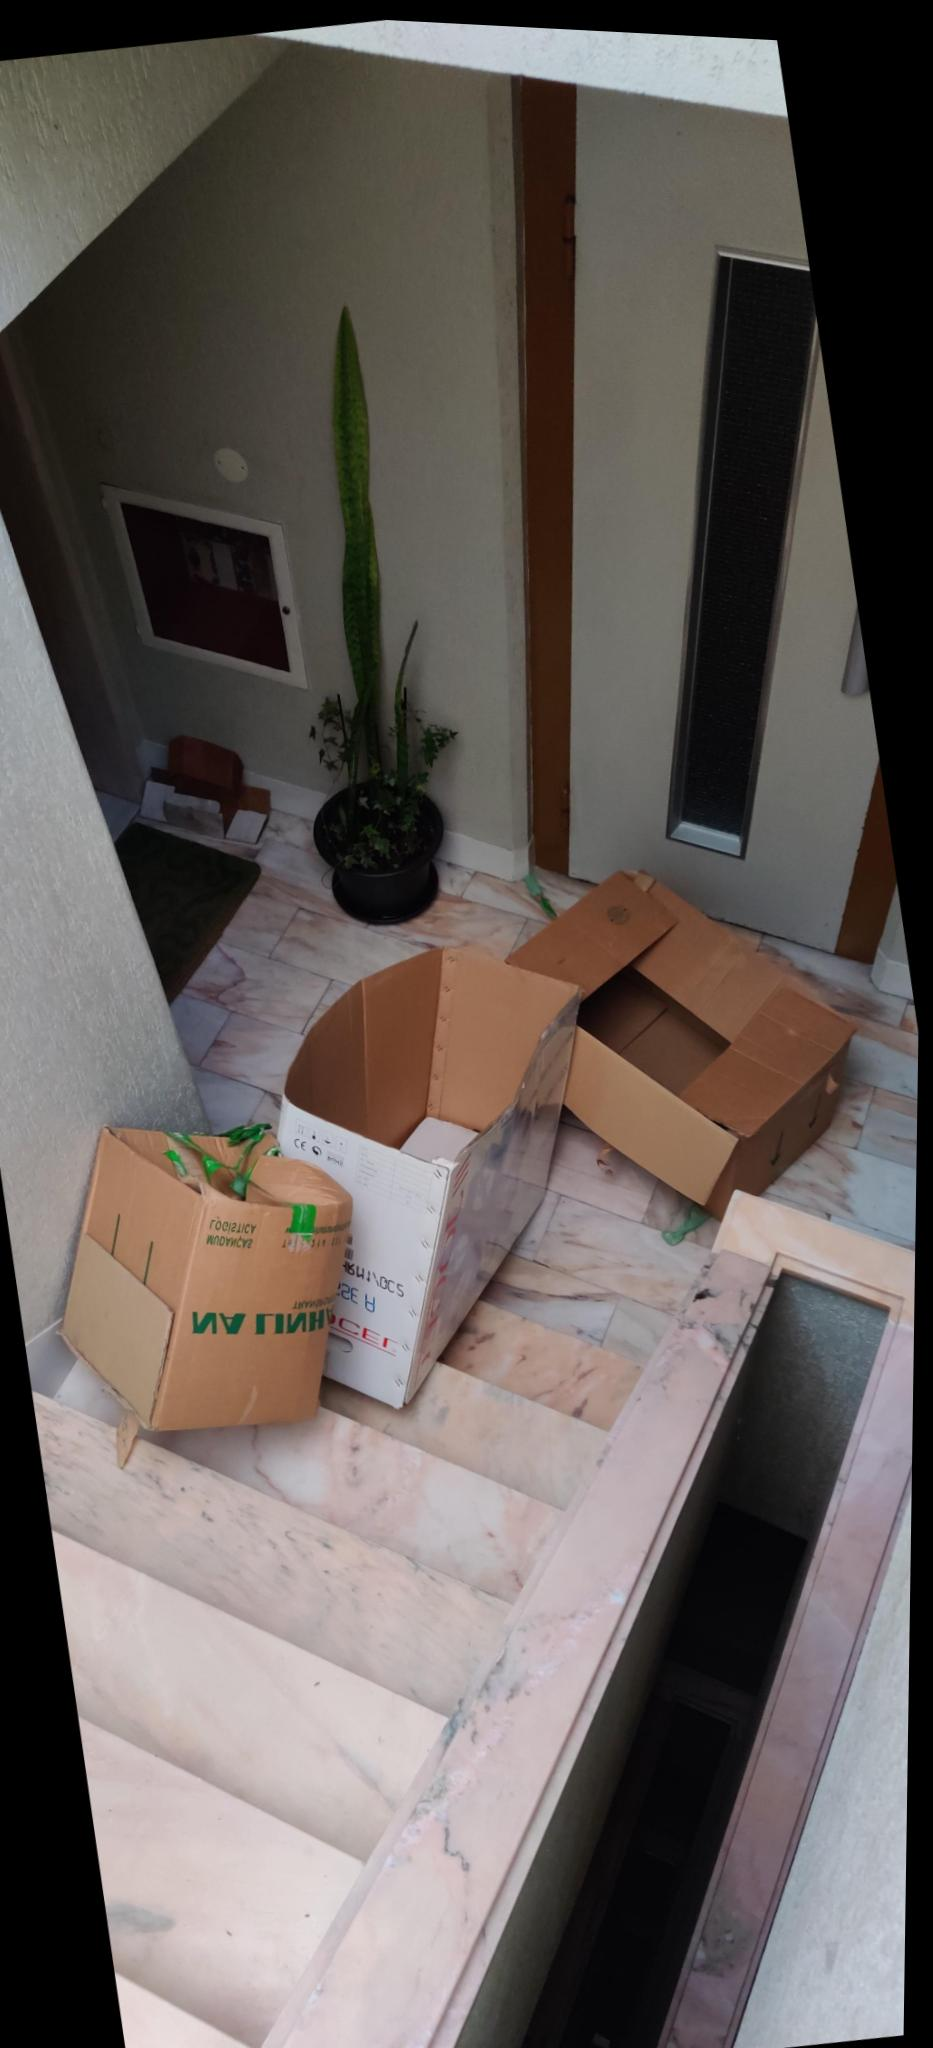cardboard: (263, 1249, 766, 2047), (276, 948, 578, 1407), (507, 872, 849, 1216), (61, 1125, 348, 1464)
